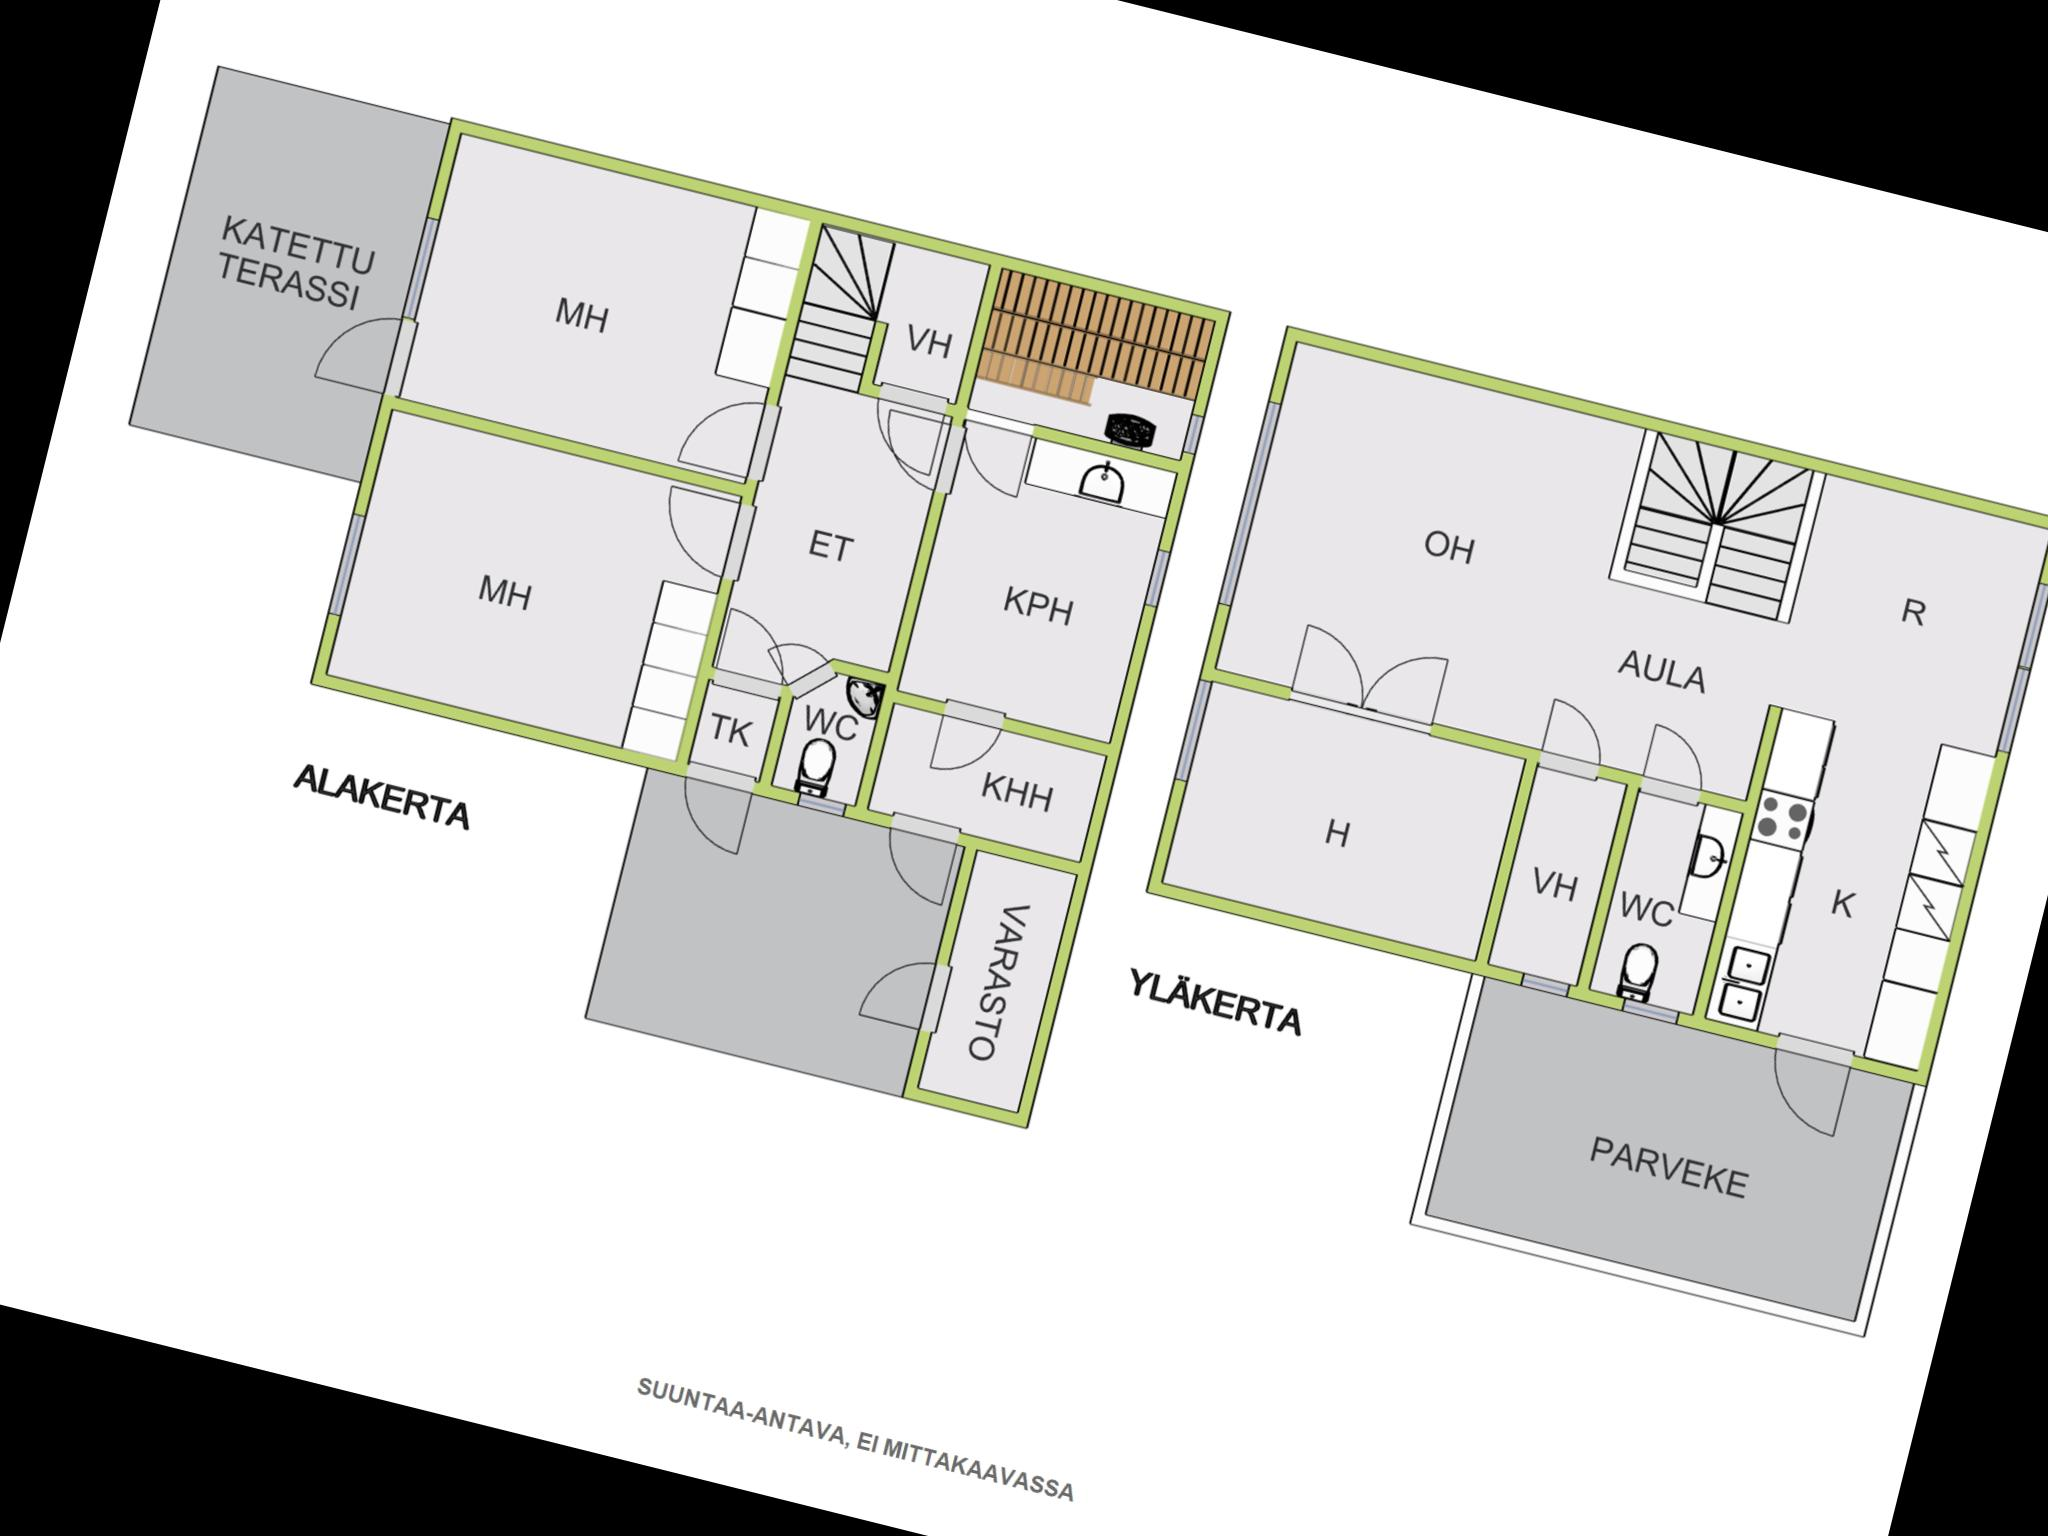door: (643, 468, 776, 594), (671, 376, 801, 497), (297, 294, 434, 408), (863, 805, 984, 916), (1755, 1025, 1866, 1141), (1277, 608, 1384, 729), (851, 939, 966, 1049), (1353, 636, 1461, 744), (942, 405, 1047, 508), (918, 684, 1019, 791), (698, 597, 803, 699), (663, 758, 766, 860), (871, 403, 971, 500), (1529, 694, 1622, 786), (1629, 718, 1724, 808), (856, 382, 953, 470), (761, 628, 845, 708)
window: (1203, 394, 1295, 628), (1980, 570, 2048, 765), (313, 497, 382, 637), (389, 202, 452, 334), (1163, 665, 1222, 797), (1132, 536, 1192, 623), (1611, 989, 1692, 1039), (784, 784, 860, 829), (1506, 965, 1579, 1010), (1177, 403, 1219, 466)
